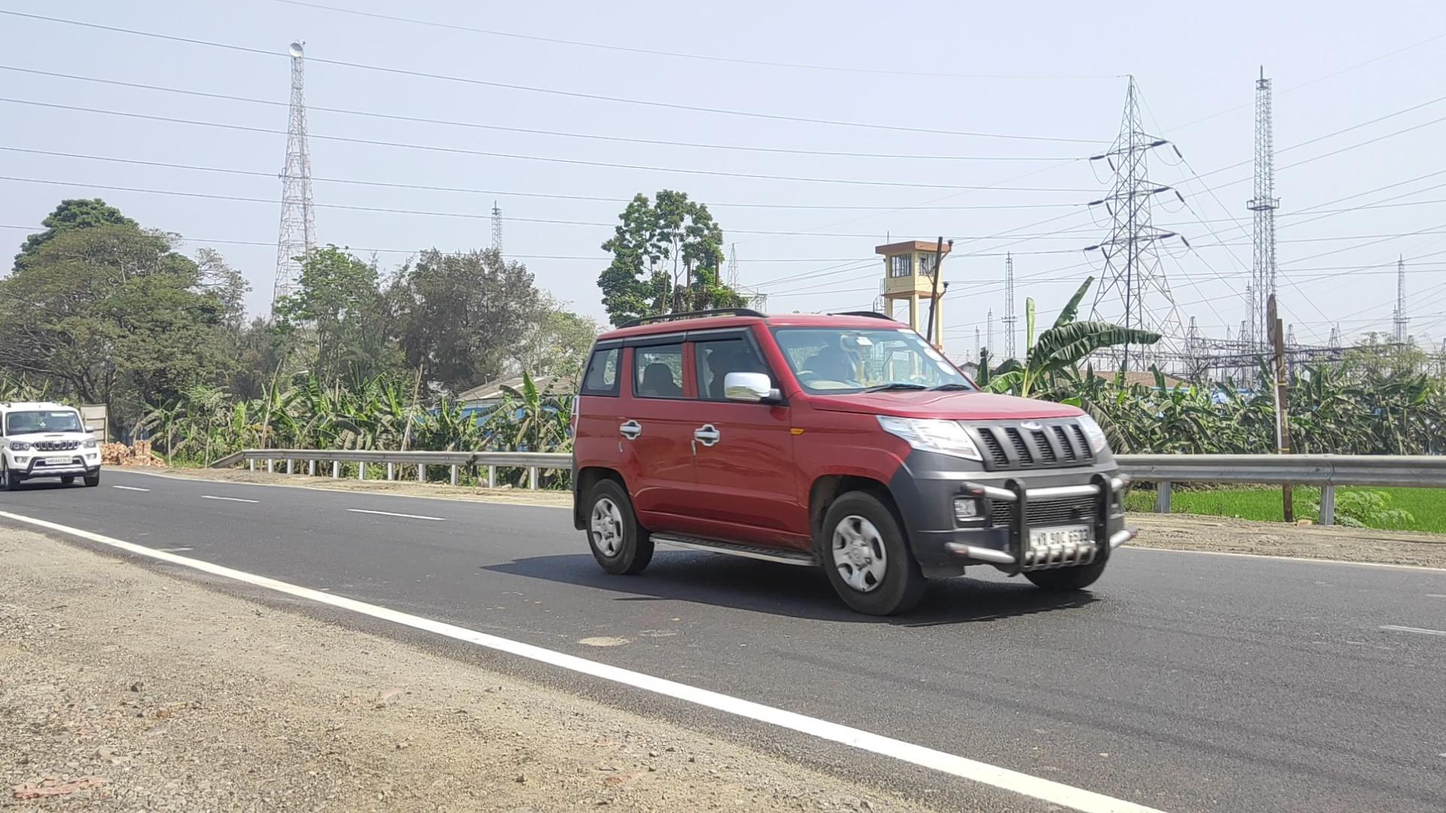car: (569, 308, 1139, 614), (1, 399, 102, 492)
